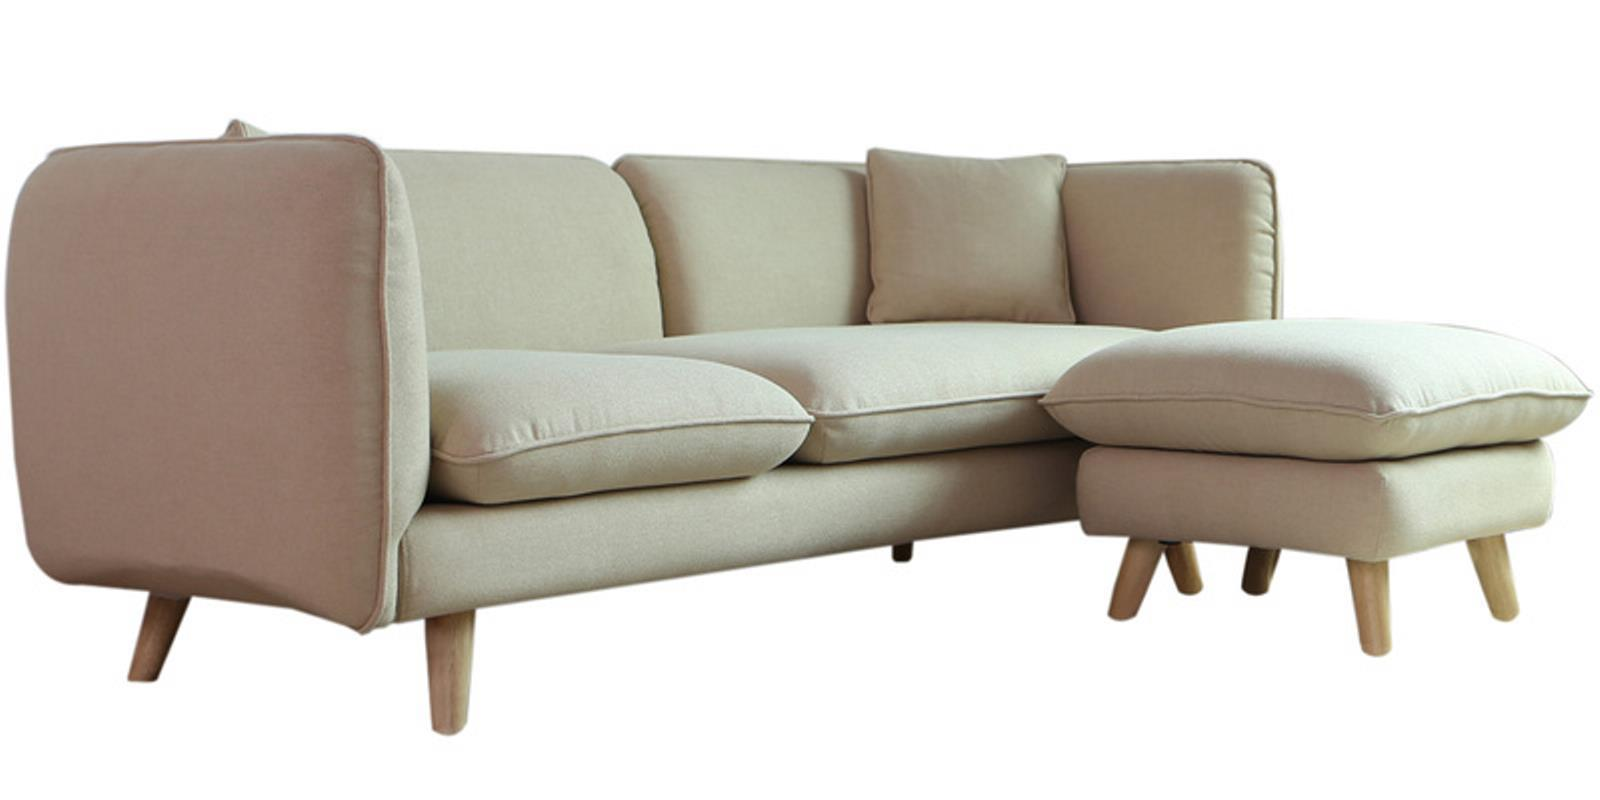Gloria Three Seater Sofa with Ottoman in Beige Colour by CasaCraft: (7, 127, 1600, 745)
